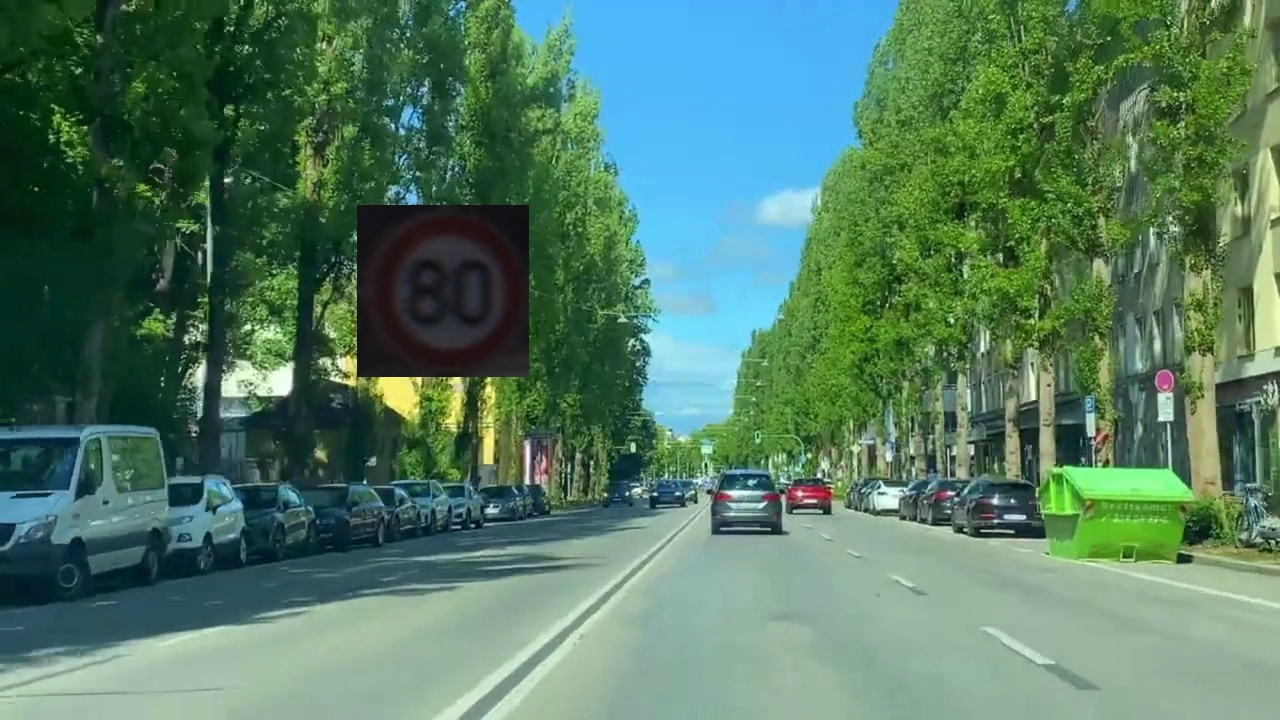Speed 80: (357, 205, 529, 377)
